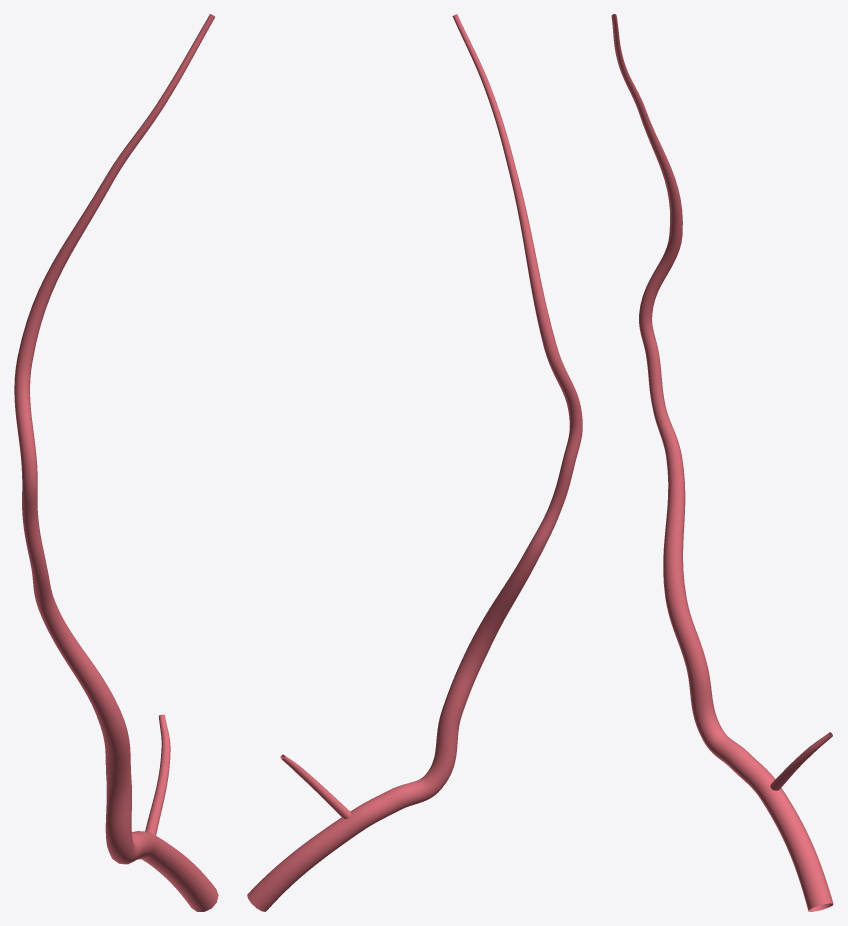
3 views of the same model, side by side, from view 1: azimuth 30°, elevation 25°; view 2: azimuth 150°, elevation 25°; view 3: azimuth 270°, elevation 25° (orthographic). The views are drawn at different scales.
Visible parts, largest first — view 1: ZA_d1dbe9e842f68d5c; view 2: ZA_d1dbe9e842f68d5c; view 3: ZA_d1dbe9e842f68d5c.
Boxes of the visible parts, x1=… form: ZA_d1dbe9e842f68d5c: x1=14, y1=14, x2=218, y2=911; ZA_d1dbe9e842f68d5c: x1=247, y1=14, x2=582, y2=911; ZA_d1dbe9e842f68d5c: x1=611, y1=14, x2=833, y2=911.
Bounding box in the file's own units: 0.0218 × 0.0713 × 0.0168.
